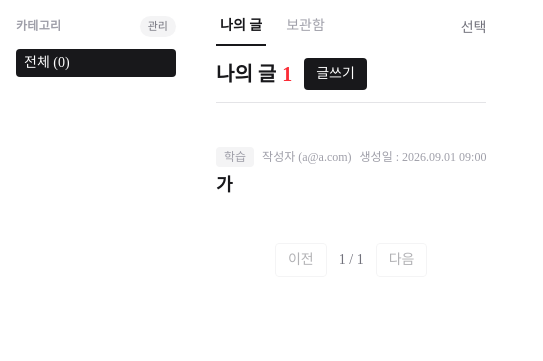
Test: MyPostsPage — 보관함 › [선택]을 누르기 전에는 체크박스가 없고, 누르면 나타난다
Expected: the link "가" is shown, [216,175,233,195]
Click the button "선택": (474, 32) [461,18,486,46]
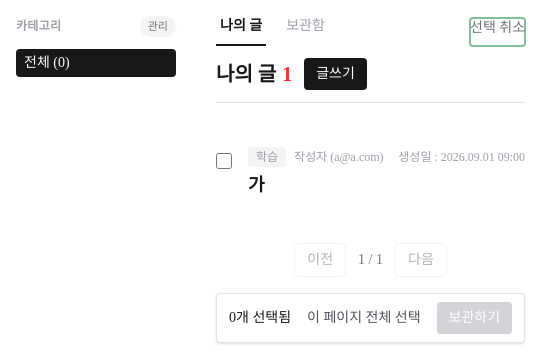
Expected: the checkbox named "가 선택" is shown, [216,153,232,169]
Expected: the element named "선택한 글 작업" is shown, [216,293,525,343]
